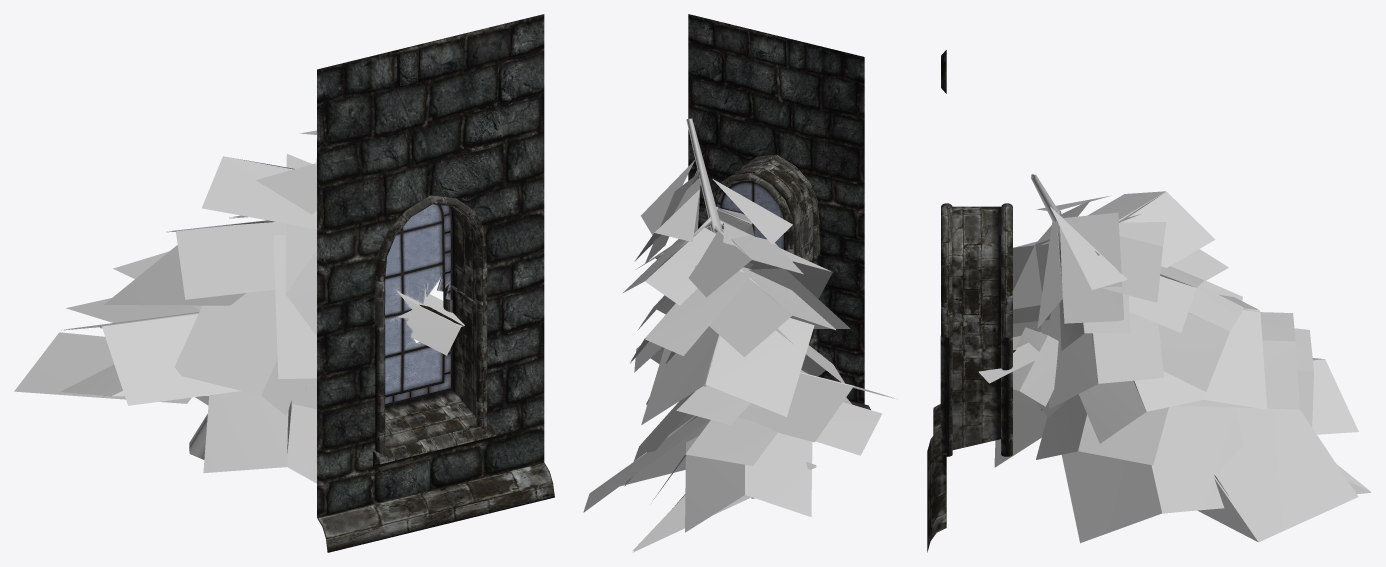
File: square_brick_window_large_blue_broken.dae
The picture shows the model from 3 angles, left to right: view 1: azimuth 30°, elevation 25°; view 2: azimuth 150°, elevation 25°; view 3: azimuth 270°, elevation 25°; orthographic projection. The views are drawn at different scales.
Visible parts, largest first — view 1: polySurface237, polySurface185, polySurface181, polySurface238, polySurface184, polySurface182; view 2: polySurface237, polySurface185, polySurface181, polySurface238, polySurface184; view 3: polySurface237, polySurface238, polySurface182.
Part boxes in pixels (x1,y1,x2,y2): polySurface237: (14,130,464,483); polySurface185: (317,14,544,307); polySurface181: (317,252,544,517); polySurface238: (373,195,496,466); polySurface184: (385,204,452,406); polySurface182: (317,462,554,552); polySurface237: (583,118,894,552); polySurface185: (688,14,864,241); polySurface181: (698,201,864,404); polySurface238: (707,154,819,352); polySurface184: (716,178,786,250); polySurface237: (978,174,1370,543); polySurface238: (933,203,1012,467); polySurface182: (927,436,946,552).
Bounding box in the file's own units: 6.22 × 8.57 × 7.37.
